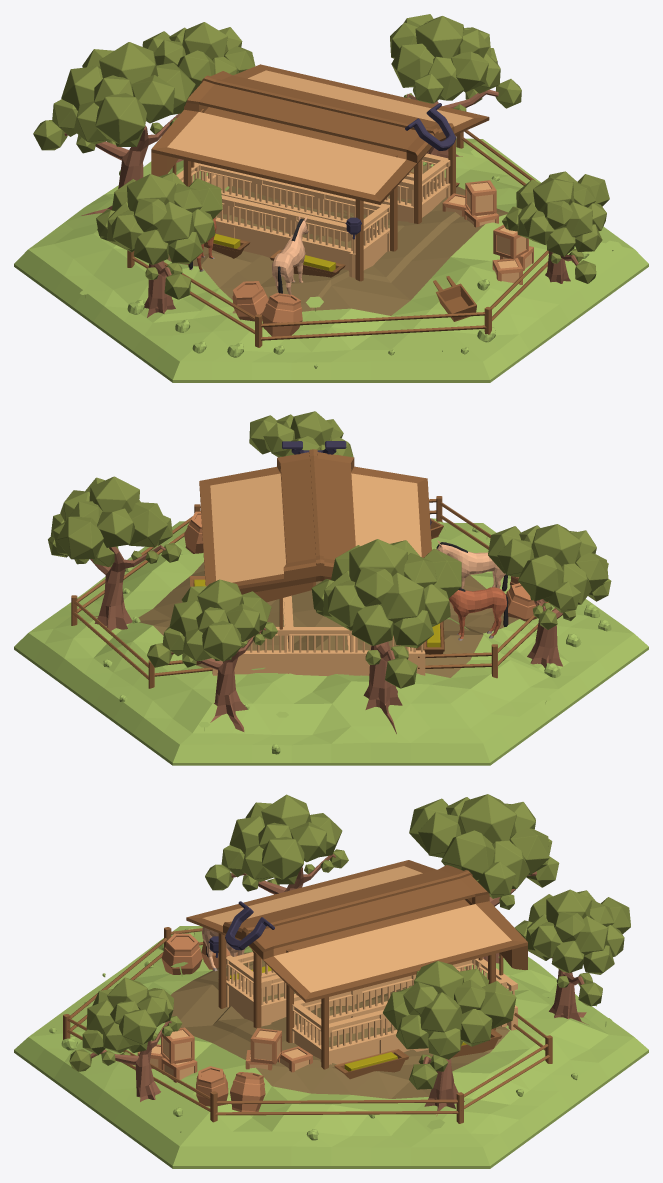
Rendered from stable.glb.
3 views of the same model, one above another, from view 1: azimuth 30°, elevation 25°; view 2: azimuth 150°, elevation 25°; view 3: azimuth 270°, elevation 25° (orthographic).
Visible parts, largest first — view 1: stables, horse.2; view 2: stables, horse, horse.2; view 3: stables.
Part boxes in pixels (x1,y1,x2,y2): stables: (14, 14, 648, 382); horse.2: (272, 216, 308, 294); stables: (14, 411, 648, 765); horse: (449, 587, 508, 640); horse.2: (436, 540, 507, 591); stables: (14, 794, 648, 1168).
Size of the model in its own units: 1.77 by 0.6874 by 2.
